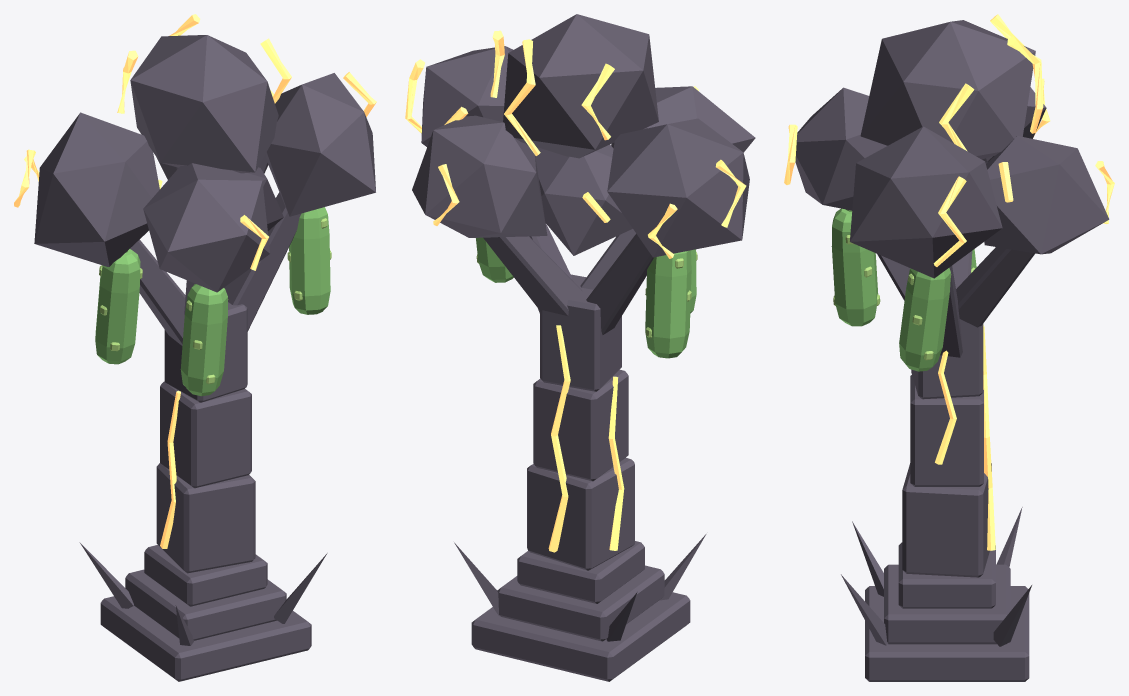
File: VolcanoObsidianTree.fbx
3 renders of one model, left to right at view 1: azimuth 30°, elevation 25°; view 2: azimuth 150°, elevation 25°; view 3: azimuth 270°, elevation 25°, orthographic. The views are drawn at different scales.
Visible parts, largest first — view 1: VolcanoObsidianTree.Rocks, VolcanoObsidianTree.Trunk, VolcanoObsidianTree.Cukes, VolcanoObsidianTree.Cracks, VolcanoObsidianTree.CukeStuds; view 2: VolcanoObsidianTree.Rocks, VolcanoObsidianTree.Trunk, VolcanoObsidianTree.Cracks, VolcanoObsidianTree.Cukes; view 3: VolcanoObsidianTree.Rocks, VolcanoObsidianTree.Trunk, VolcanoObsidianTree.Cukes, VolcanoObsidianTree.Cracks.
Part boxes in pixels (x1,y1,x2,y2): VolcanoObsidianTree.Rocks: (34,35,375,292); VolcanoObsidianTree.Trunk: (79,192,327,681); VolcanoObsidianTree.Cukes: (95,207,330,396); VolcanoObsidianTree.Cracks: (14,14,376,548); VolcanoObsidianTree.CukeStuds: (99,218,331,383); VolcanoObsidianTree.Rocks: (412,14,755,257); VolcanoObsidianTree.Trunk: (454,223,706,681); VolcanoObsidianTree.Cracks: (405,30,746,552); VolcanoObsidianTree.Cukes: (476,237,696,358); VolcanoObsidianTree.Rocks: (795,20,1109,278); VolcanoObsidianTree.Trunk: (841,247,1035,681); VolcanoObsidianTree.Cukes: (831,208,976,371); VolcanoObsidianTree.Cracks: (784,14,1114,550).
Size of the model in its own units: 6.52 by 11.05 by 5.27.
